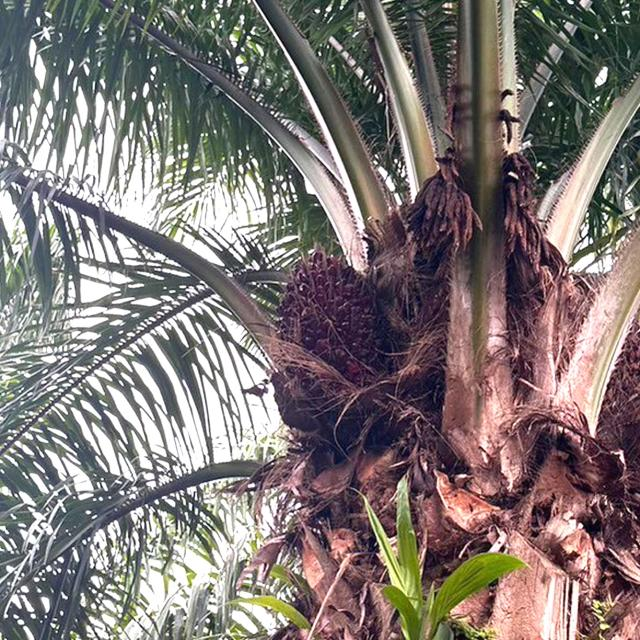ripe: (255, 229, 393, 407)
